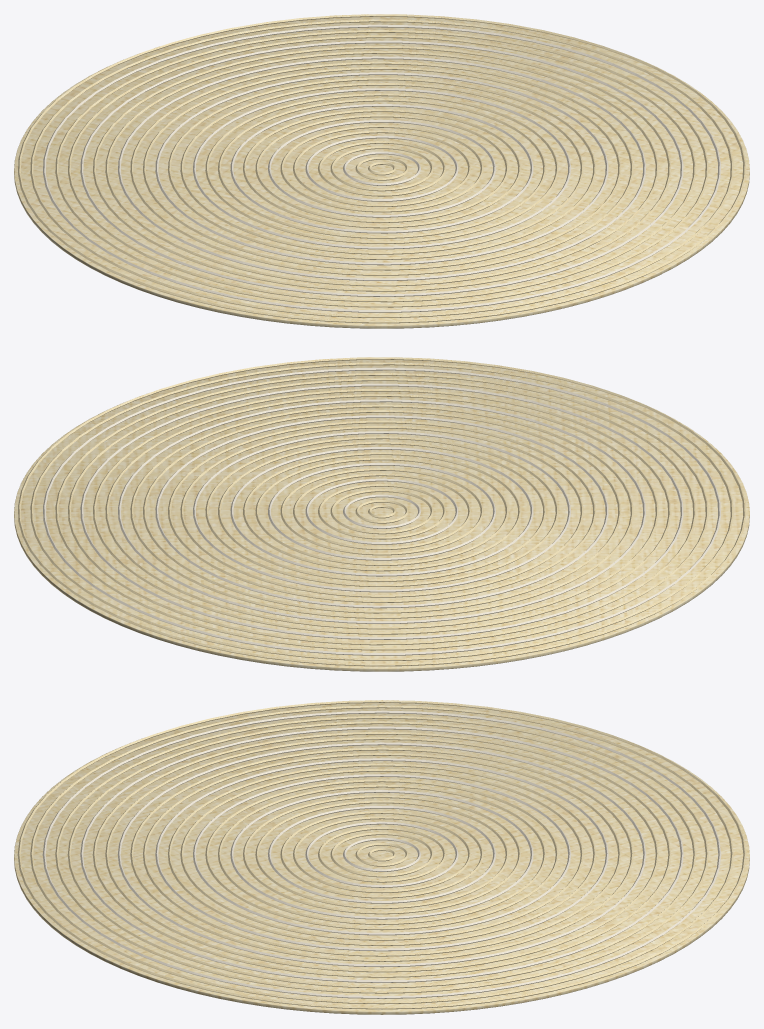
File: jute-rug.glb
The picture shows the model from 3 angles, top to bottom: view 1: azimuth 30°, elevation 25°; view 2: azimuth 150°, elevation 25°; view 3: azimuth 270°, elevation 25°; orthographic projection.
Parts seen in each view (by area): view 1: jute-rug; view 2: jute-rug; view 3: jute-rug.
Boxes of the visible parts, x1,y1,x2,y2 form: jute-rug: (14,14,749,328); jute-rug: (14,357,749,671); jute-rug: (14,700,749,1014).
Size of the model in its own units: 2 by 0.018 by 2.
Materials: 3 (2 with a texture image).
